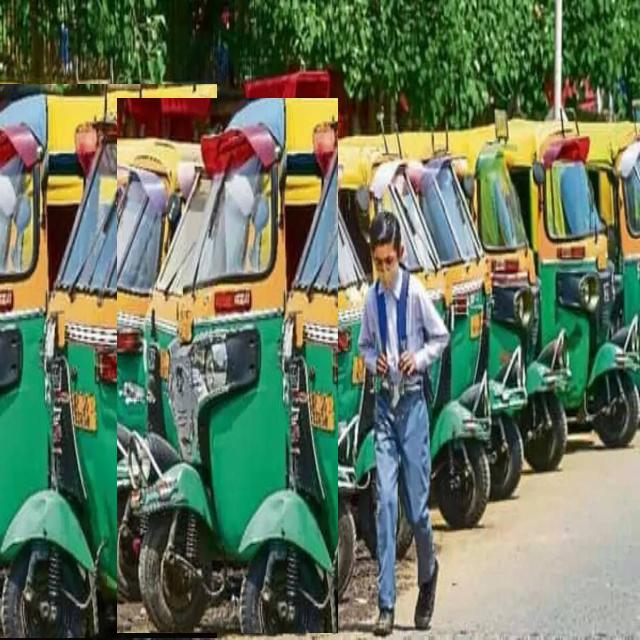autorickshaw: (0, 85, 217, 638), (118, 98, 338, 633), (505, 120, 640, 447)
